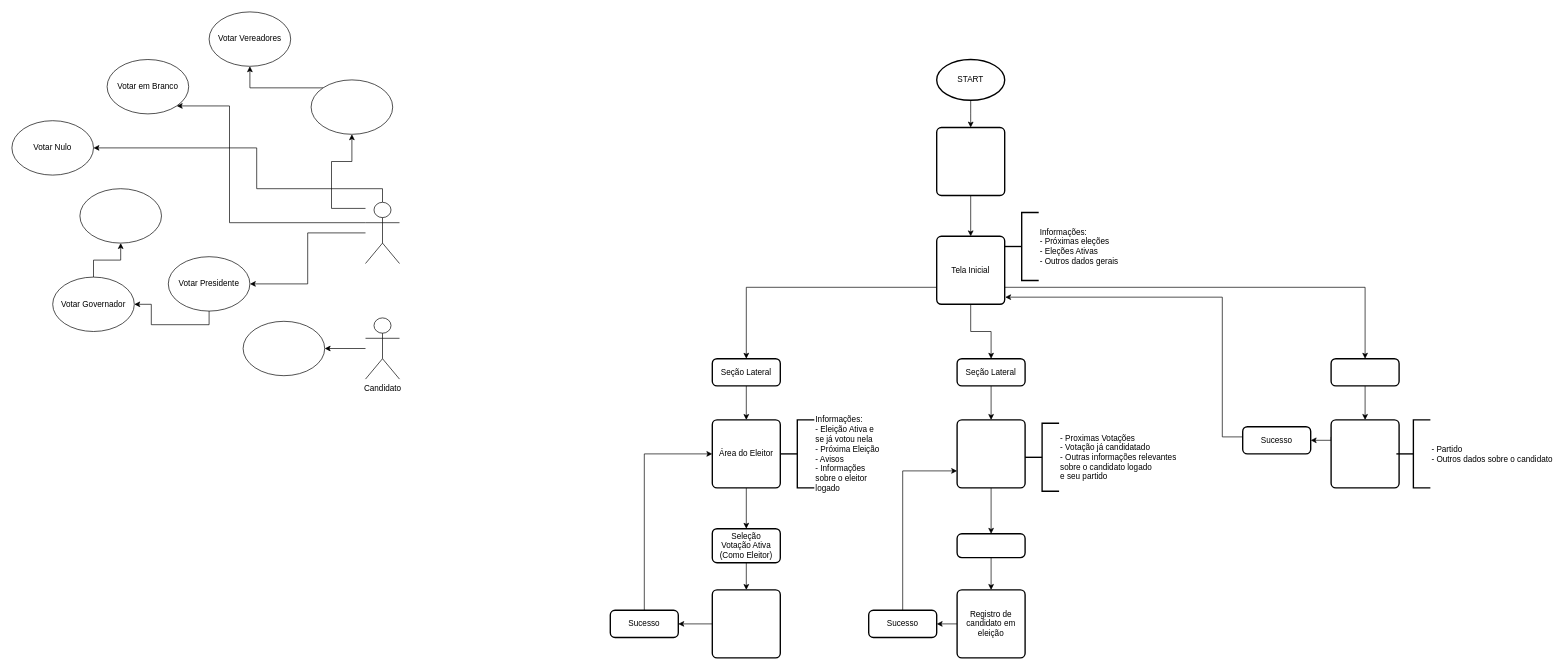
Some shapes in this 1565 by 670 pixel diagram are drawn without their labels. The shapes that lost their labels are listed below. From the top down, each one's box as (x1, y1, x2, y2) in pixels, then its label:
(310, 79, 393, 134): Votar Prefeito
(936, 126, 1005, 196): Criação de Usuario
(79, 188, 162, 243): Votar Senador
(365, 202, 400, 264): Eleitor
(242, 321, 325, 376): Se candidatar na eleição
(1330, 358, 1399, 386): Botão
(956, 419, 1025, 488): Área do Candidato
(1330, 419, 1399, 488): Tela registrarse como candidato
(956, 533, 1025, 558): Seleção votação Próxima
(711, 589, 781, 658): Tela registro de voto
